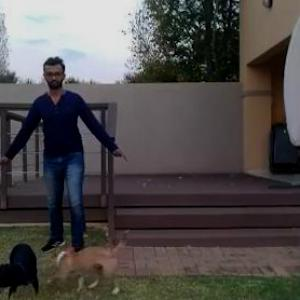land: (6, 57, 126, 264)
